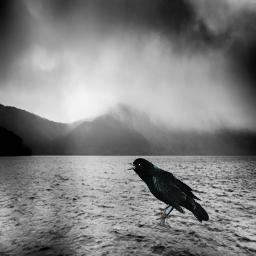Crow: (124, 158, 209, 226)
